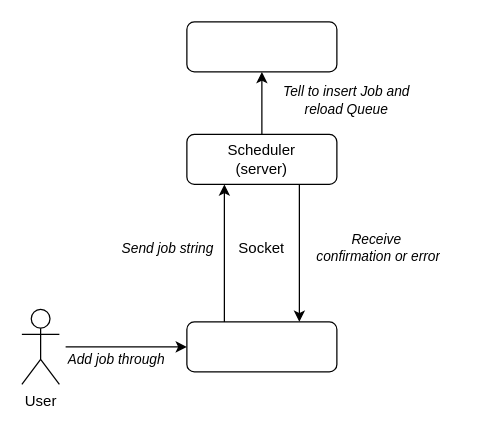
Some shapes in this 484 by 433 pixel diagram are drawn without their labels. The centre of each missing label's shape, as x and y in pixels:
Controller: point (261, 46)
schedclt (scheduler client): point (261, 346)
